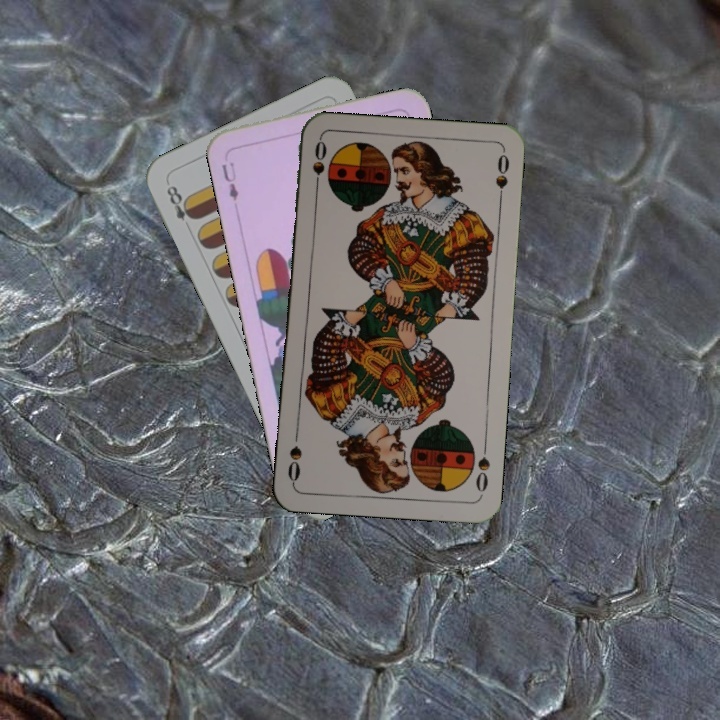E8: (162, 181, 199, 224)
EU: (217, 157, 241, 204)
SO: (308, 137, 329, 196), (472, 438, 492, 498)
